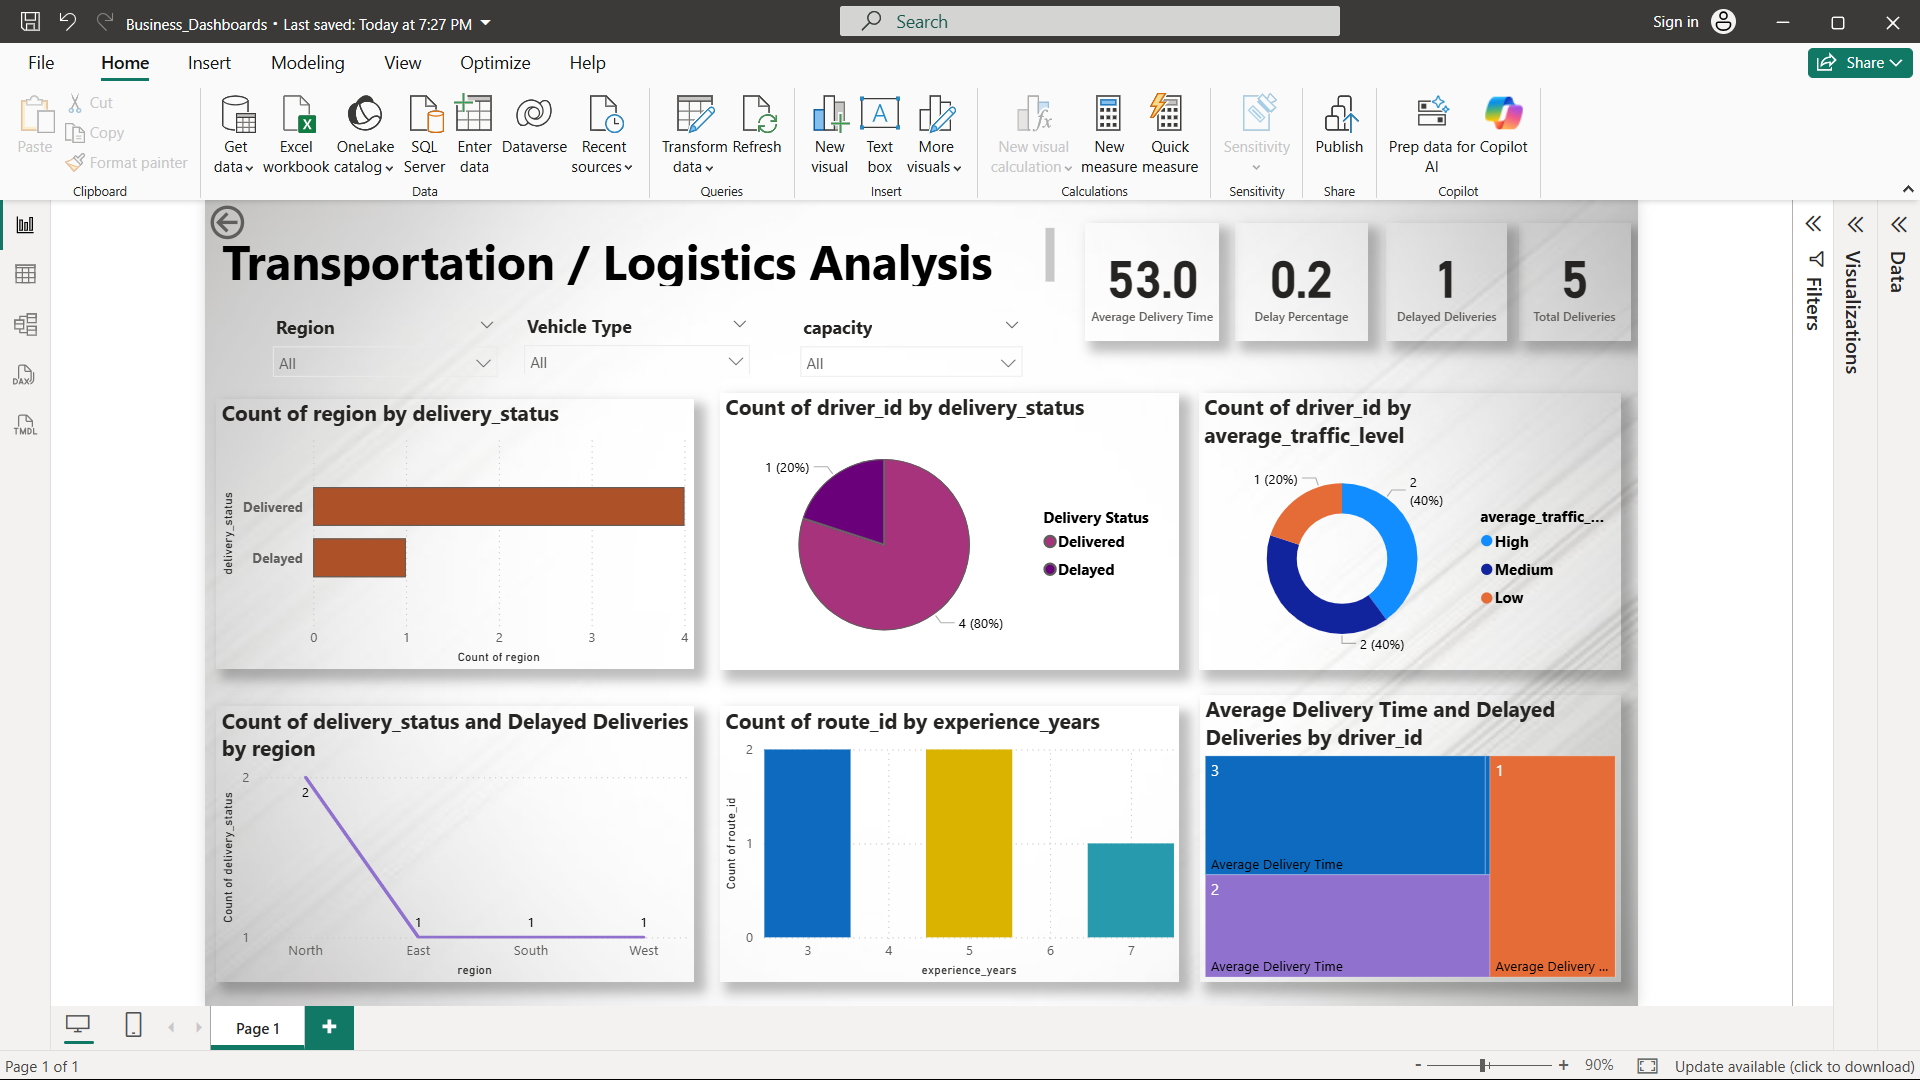

This screenshot's page, from the dashboard's own definition file:
{"tool":"powerbi","page":{"name":"Page 1","canvas":[1280,720],"ordinal":0},"visuals":[{"type":"card","fields":{"Values":["transportation_logistics_analysis_project deliveries.Average Delivery Time"]},"box":[785.7,20.2,120.2,106],"z":0},{"type":"card","fields":{"Values":["transportation_logistics_analysis_project deliveries.Delay Percentage"]},"box":[920.2,20.2,119,106],"z":1000},{"type":"card","fields":{"Values":["transportation_logistics_analysis_project deliveries.Delayed Deliveries"]},"box":[1054.8,20.2,108.3,106],"z":2000},{"type":"card","fields":{"Values":["transportation_logistics_analysis_project deliveries.Total Deliveries"]},"box":[1173.8,20.2,100,106],"z":3000},{"type":"barChart","fields":{"Y":["CountNonNull(transportation_logistics_analysis_project orders.region)"],"Category":["transportation_logistics_analysis_project deliveries.delivery_status"]},"box":[9.5,177.4,427.4,241.7],"z":4000},{"type":"pieChart","fields":{"Y":["CountNonNull(transportation_logistics_analysis_project deliveries.driver_id)"],"Category":["transportation_logistics_analysis_project deliveries.delivery_status"]},"box":[459.5,171.4,410.7,247.6],"z":5000},{"type":"donutChart","fields":{"Category":["transportation_logistics_analysis_project routes.average_traffic_level"],"Y":["CountNonNull(transportation_logistics_analysis_project deliveries.driver_id)"]},"box":[888.1,171.4,377.4,247.6],"z":6000},{"type":"treemap","fields":{"Group":["transportation_logistics_analysis_project deliveries.driver_id"],"Values":["transportation_logistics_analysis_project deliveries.Average Delivery Time","transportation_logistics_analysis_project deliveries.Delayed Deliveries"]},"box":[889.3,441.7,376.2,257.1],"z":7000},{"type":"actionButton","box":[0,0,100,40],"z":8000},{"type":"lineChart","fields":{"Y":["CountNonNull(transportation_logistics_analysis_project deliveries.delivery_status)"],"Category":["transportation_logistics_analysis_project orders.region"]},"box":[9.5,452.4,427.4,246.4],"z":9000},{"type":"lineStackedColumnComboChart","fields":{"Category":["transportation_logistics_analysis_project drivers.experience_years"],"Y":["CountNonNull(transportation_logistics_analysis_project deliveries.route_id)"]},"box":[459.5,452.4,410.7,246.4],"z":10000},{"type":"slicer","fields":{"Values":["transportation_logistics_analysis_project orders.region"]},"box":[50,97.7,220.9,60.5],"z":11000},{"type":"slicer","fields":{"Values":["transportation_logistics_analysis_project vehicles.vehicle_type"]},"box":[274.4,96.5,222.1,59.3],"z":12000},{"type":"textbox","box":[9.5,20.2,753.6,61.9],"z":13000},{"type":"slicer","fields":{"Values":["transportation_logistics_analysis_project vehicles.capacity"]},"box":[520.9,97.7,218.6,60.5],"z":13001}]}

Visuals, with their boxes on the page's 1280x720 design canvas (x1, y1, x2, y2). These are canvas units, not pixel positions in the 1920x1080 screenshot, which may show the page scaled, cropped or inside an application window:
card - transportation_logistics_analysis_project deliveries.Average Delivery Time: (left=786, top=20, right=906, bottom=126)
card - transportation_logistics_analysis_project deliveries.Delay Percentage: (left=920, top=20, right=1039, bottom=126)
card - transportation_logistics_analysis_project deliveries.Delayed Deliveries: (left=1055, top=20, right=1163, bottom=126)
card - transportation_logistics_analysis_project deliveries.Total Deliveries: (left=1174, top=20, right=1274, bottom=126)
barChart - CountNonNull(transportation_logistics_analysis_project orders.region) x transportation_logistics_analysis_project deliveries.delivery_status: (left=10, top=177, right=437, bottom=419)
pieChart - CountNonNull(transportation_logistics_analysis_project deliveries.driver_id) x transportation_logistics_analysis_project deliveries.delivery_status: (left=460, top=171, right=870, bottom=419)
donutChart - transportation_logistics_analysis_project routes.average_traffic_level x CountNonNull(transportation_logistics_analysis_project deliveries.driver_id): (left=888, top=171, right=1266, bottom=419)
treemap - transportation_logistics_analysis_project deliveries.driver_id x transportation_logistics_analysis_project deliveries.Average Delivery Time: (left=889, top=442, right=1266, bottom=699)
actionButton: (left=0, top=0, right=100, bottom=40)
lineChart - CountNonNull(transportation_logistics_analysis_project deliveries.delivery_status) x transportation_logistics_analysis_project orders.region: (left=10, top=452, right=437, bottom=699)
lineStackedColumnComboChart - transportation_logistics_analysis_project drivers.experience_years x CountNonNull(transportation_logistics_analysis_project deliveries.route_id): (left=460, top=452, right=870, bottom=699)
slicer - transportation_logistics_analysis_project orders.region: (left=50, top=98, right=271, bottom=158)
slicer - transportation_logistics_analysis_project vehicles.vehicle_type: (left=274, top=96, right=496, bottom=156)
textbox: (left=10, top=20, right=763, bottom=82)
slicer - transportation_logistics_analysis_project vehicles.capacity: (left=521, top=98, right=740, bottom=158)
